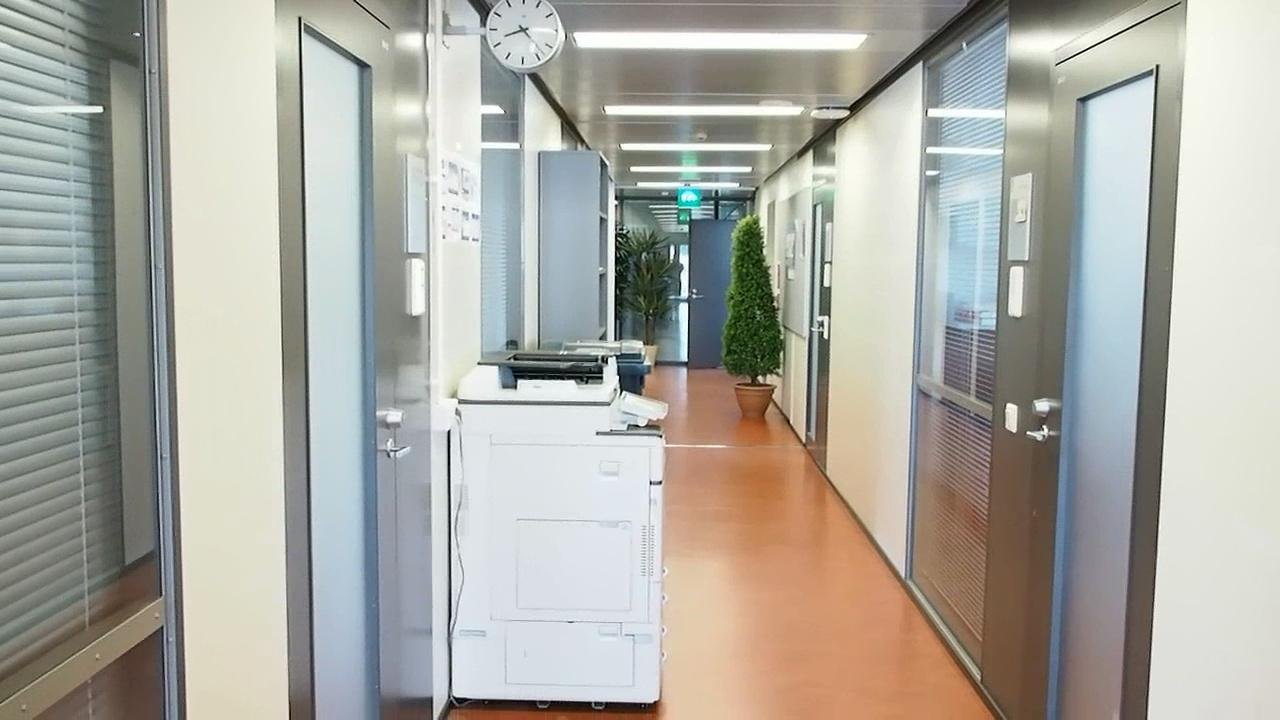clock: (482, 3, 562, 68)
printer: (443, 339, 675, 705)
